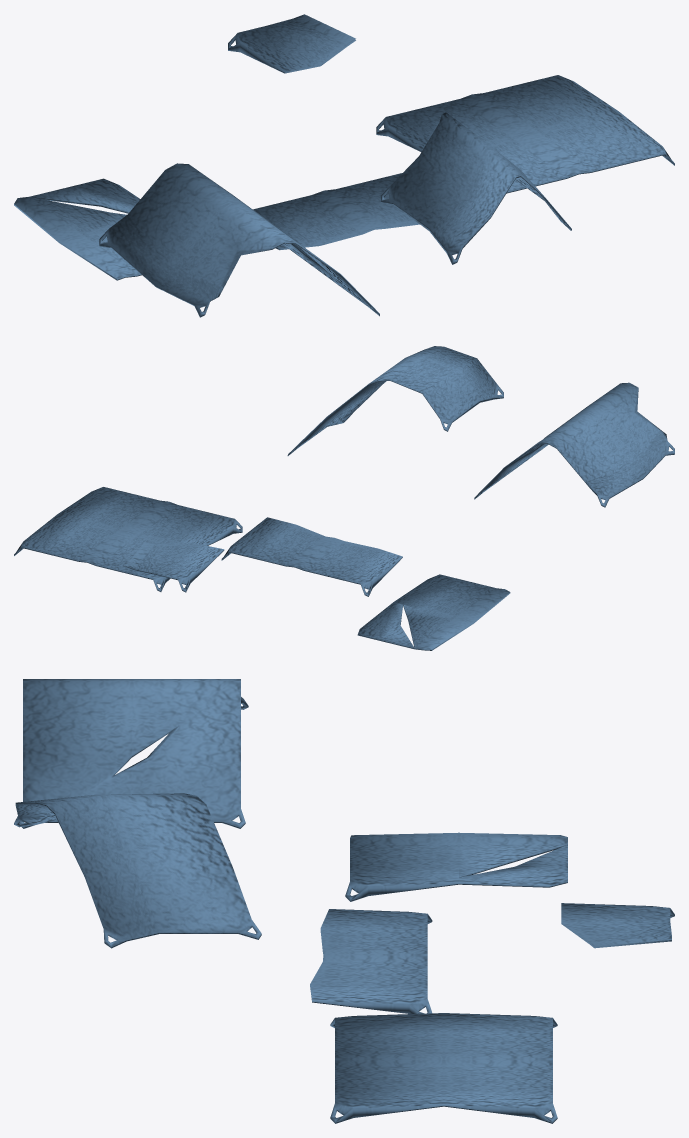
The model's file is DamagedTarps_LightBlue.obj.
3 views of the same model, one above another, from view 1: azimuth 30°, elevation 25°; view 2: azimuth 150°, elevation 25°; view 3: azimuth 270°, elevation 25° (orthographic). The views are drawn at different scales.
Visible parts, largest first — view 1: Plane.012_Material.187, Plane.017_Material.187, Plane.011_Material.187, Plane.015_Material.187, Plane.014_Material.187, Plane.013_Material.187; view 2: Plane.012_Material.187, Plane.017_Material.187, Plane.011_Material.187, Plane.015_Material.187, Plane.014_Material.187, Plane.013_Material.187; view 3: Plane.017_Material.187, Plane.011_Material.187, Plane.012_Material.187, Plane.015_Material.187, Plane.014_Material.187, Plane.013_Material.187.
Part boxes in pixels (x1=…): Plane.012_Material.187: x1=376, y1=75, x2=674, y2=193; Plane.017_Material.187: x1=99, y1=163, x2=379, y2=317; Plane.011_Material.187: x1=381, y1=112, x2=571, y2=264; Plane.015_Material.187: x1=14, y1=178, x2=141, y2=280; Plane.014_Material.187: x1=253, y1=173, x2=419, y2=250; Plane.013_Material.187: x1=228, y1=14, x2=355, y2=73; Plane.012_Material.187: x1=14, y1=487, x2=242, y2=591; Plane.017_Material.187: x1=474, y1=382, x2=674, y2=507; Plane.011_Material.187: x1=287, y1=346, x2=503, y2=455; Plane.015_Material.187: x1=357, y1=574, x2=510, y2=650; Plane.014_Material.187: x1=221, y1=517, x2=402, y2=596; Plane.013_Material.187: x1=126, y1=542, x2=224, y2=592; Plane.017_Material.187: x1=19, y1=679, x2=248, y2=828; Plane.011_Material.187: x1=14, y1=793, x2=261, y2=948; Plane.012_Material.187: x1=330, y1=1013, x2=557, y2=1123; Plane.015_Material.187: x1=345, y1=832, x2=567, y2=901; Plane.014_Material.187: x1=310, y1=909, x2=432, y2=1013; Plane.013_Material.187: x1=561, y1=903, x2=674, y2=948.
Size of the model in its own units: 6.69 by 1.81 by 6.06.
